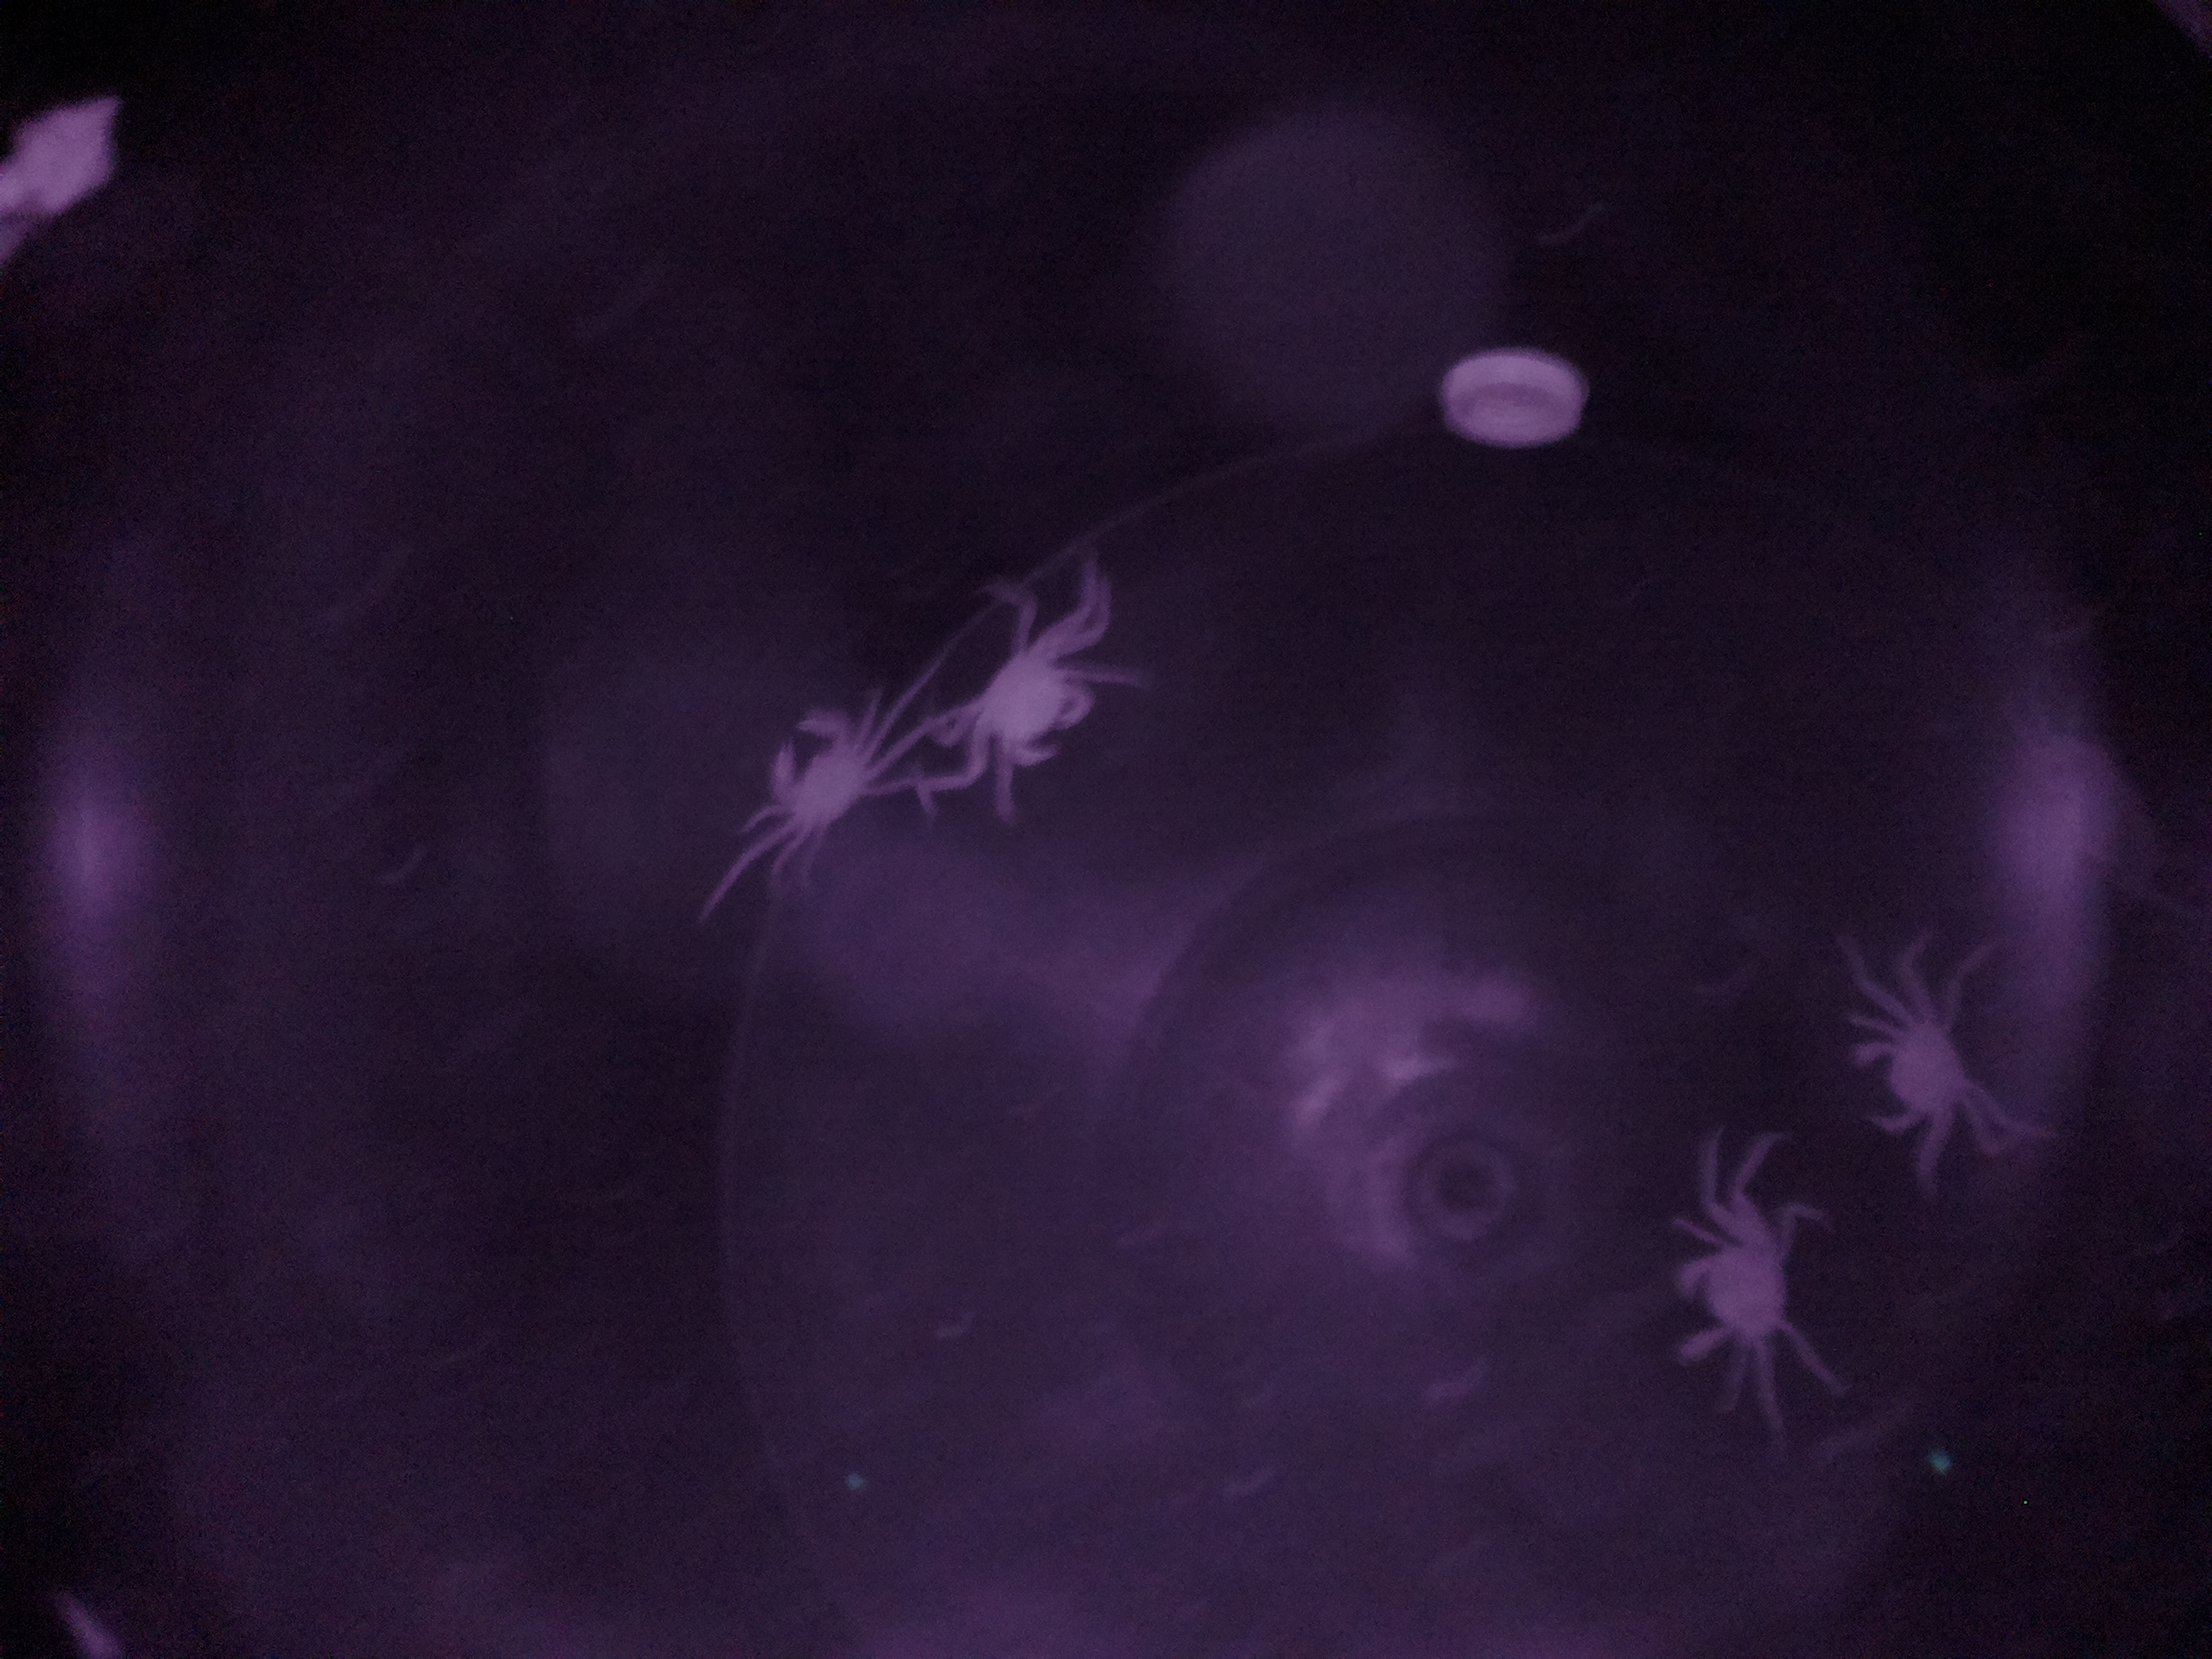Crab: (1658, 1187, 1820, 1389), (946, 608, 1118, 796), (1820, 995, 2008, 1150), (745, 695, 914, 859)
